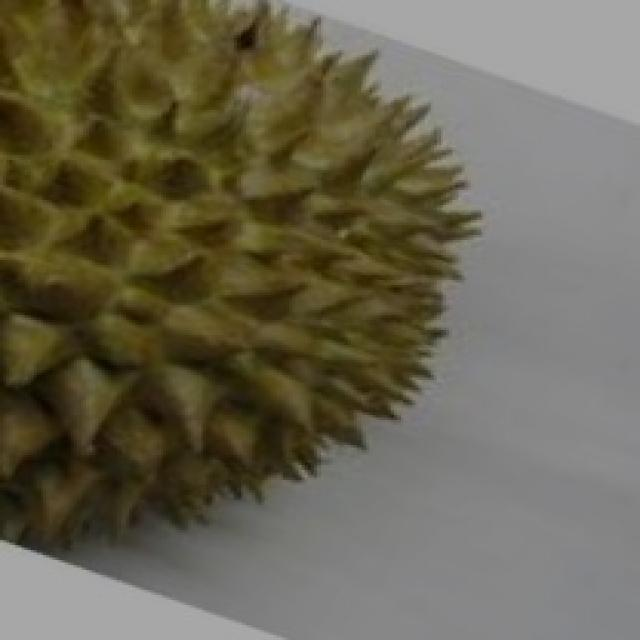fruit: (0, 217, 378, 600)
